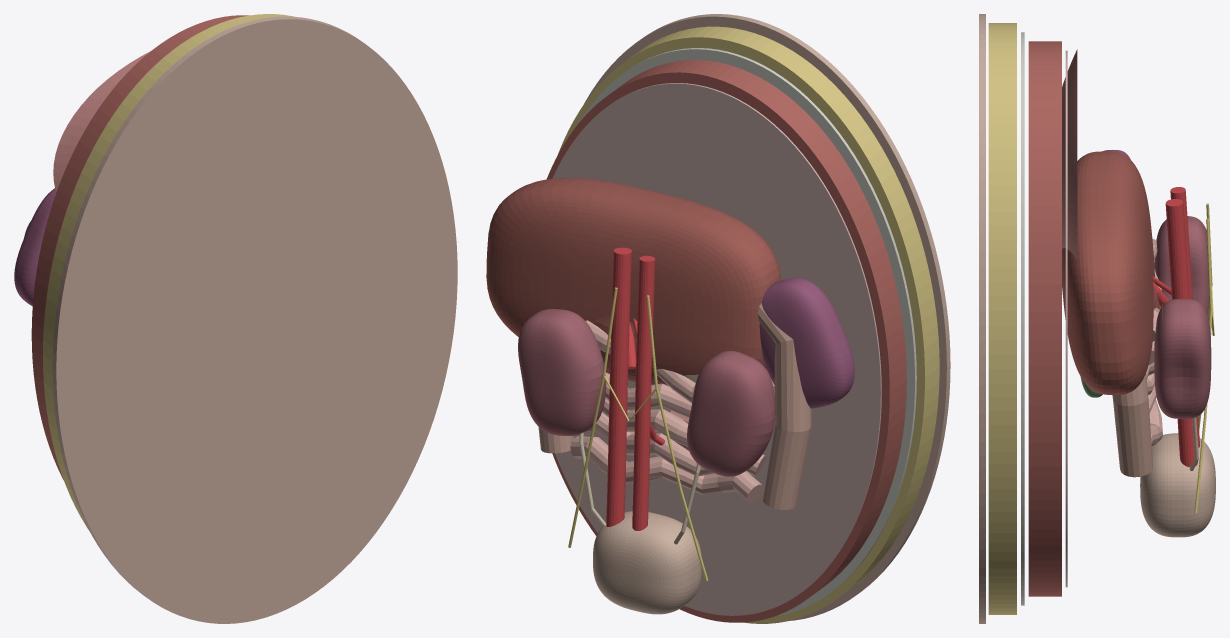
File: dranmar_patient_intact.glb
3 renders of one model, left to right at view 1: azimuth 30°, elevation 25°; view 2: azimuth 150°, elevation 25°; view 3: azimuth 270°, elevation 25°, orthographic. The views are drawn at different scales.
Visible parts, largest first — view 1: skin, abdominal_wall, subcutaneous_fat, diaphragm, spleen; view 2: peritoneum, liver, abdominal_wall, subcutaneous_fat, skin, major_vessels, right_kidney, fascia, left_kidney, bladder, small_bowel, spleen (+3 smaller); view 3: abdominal_wall, liver, subcutaneous_fat, right_kidney, bladder, skin, major_vessels, colon, diaphragm, left_kidney, fascia, peritoneum (+2 smaller).
Part boxes in pixels (bbox=[...]): skin: bbox=[52, 16, 457, 623]; abdominal_wall: bbox=[31, 15, 249, 479]; subcutaneous_fat: bbox=[43, 14, 294, 529]; diaphragm: bbox=[53, 51, 150, 191]; spleen: bbox=[14, 188, 56, 305]; peritoneum: bbox=[552, 83, 881, 615]; liver: bbox=[486, 178, 781, 385]; abdominal_wall: bbox=[547, 60, 906, 622]; subcutaneous_fat: bbox=[558, 26, 939, 623]; skin: bbox=[584, 14, 950, 620]; major_vessels: bbox=[606, 247, 664, 530]; right_kidney: bbox=[518, 309, 606, 435]; fascia: bbox=[578, 48, 916, 616]; left_kidney: bbox=[687, 351, 775, 476]; bladder: bbox=[593, 511, 701, 614]; small_bowel: bbox=[570, 320, 765, 502]; spleen: bbox=[759, 278, 854, 408]; abdominal_wall: bbox=[1028, 41, 1061, 596]; liver: bbox=[1062, 151, 1160, 394]; subcutaneous_fat: bbox=[988, 23, 1016, 614]; right_kidney: bbox=[1154, 299, 1211, 418]; bladder: bbox=[1140, 433, 1215, 537]; skin: bbox=[979, 14, 985, 623]; major_vessels: bbox=[1153, 187, 1199, 467]; colon: bbox=[1112, 373, 1152, 477]; diaphragm: bbox=[1062, 49, 1077, 259]; left_kidney: bbox=[1154, 216, 1209, 314]; fascia: bbox=[1021, 32, 1024, 605]; peritoneum: bbox=[1065, 50, 1067, 587].
Size of the model in its own units: 0.38 by 0.54 by 0.2.
